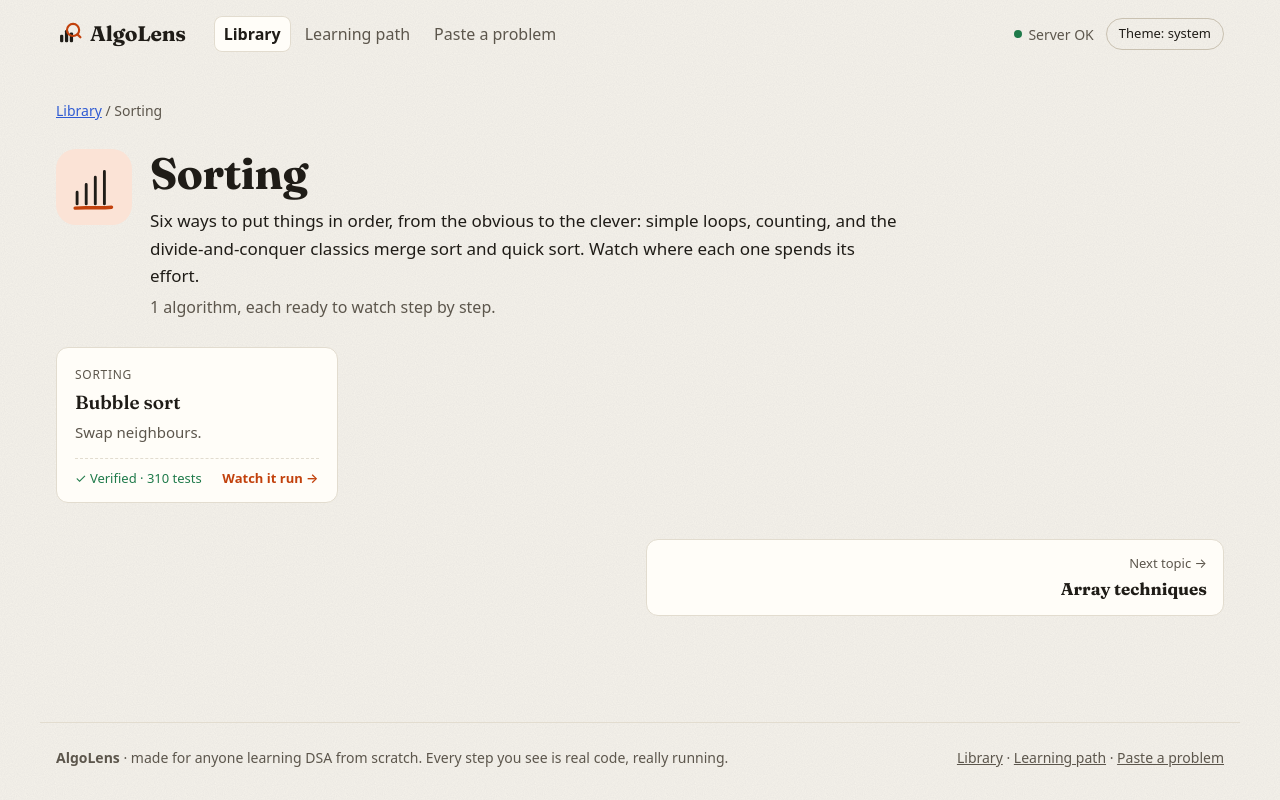
a topic page lists its algorithms and links to the next topic
The image size is (1280, 800).
Expected: the heading "Sorting" is shown, x1=150 y1=146 x2=308 y2=200
Expected: the link "Two pointers" is not shown
Click the link "Next topic → Array techniques" at [1168, 563], box x1=646 y1=539 x2=1224 y2=616
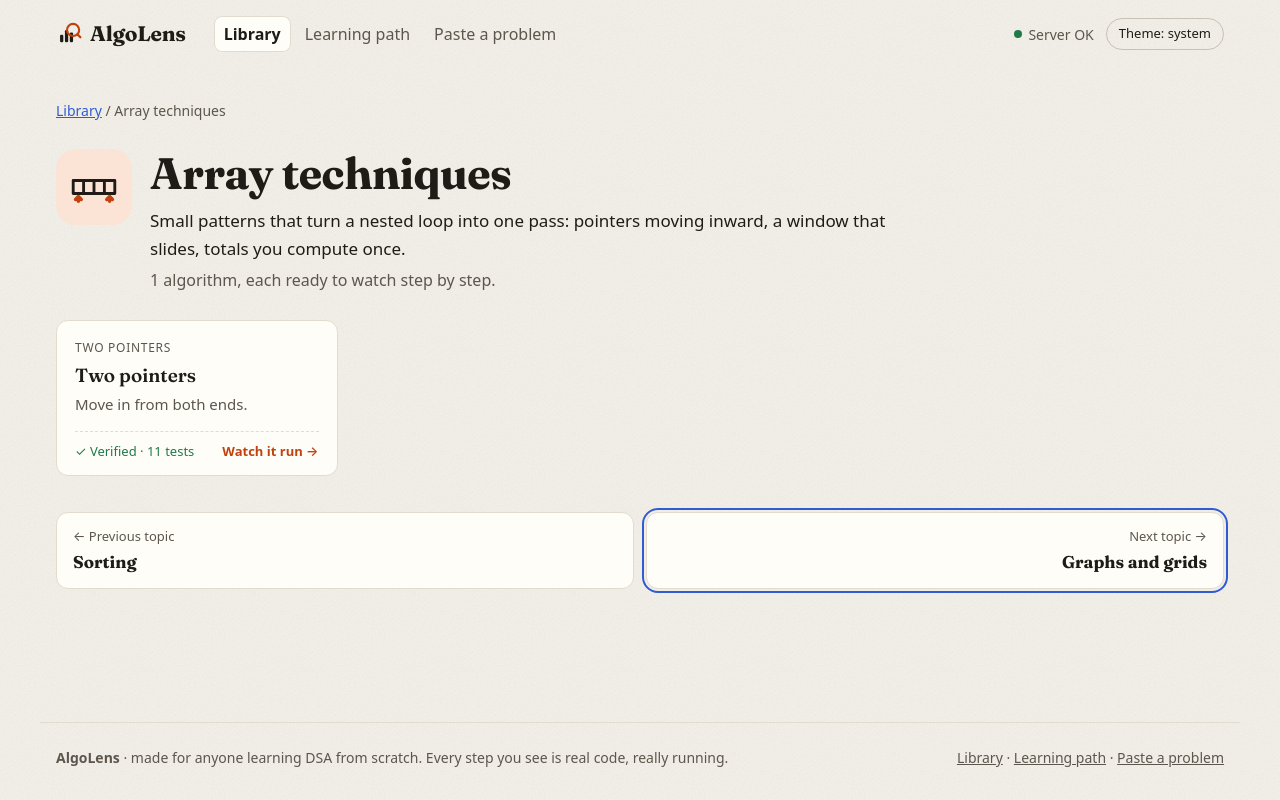
Result: the heading "Array techniques" is shown at x1=150 y1=146 x2=512 y2=200
